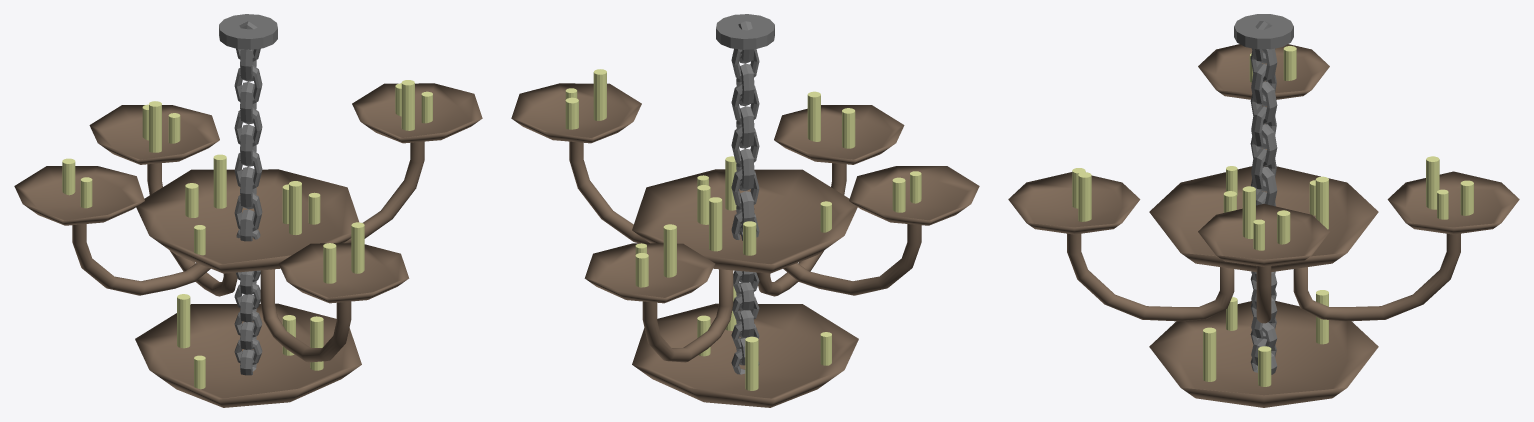
The model's file is Candelabro.fbx.
3 views of the same model, side by side, from view 1: azimuth 30°, elevation 25°; view 2: azimuth 150°, elevation 25°; view 3: azimuth 270°, elevation 25° (orthographic).
Visible parts, largest first — view 1: Cylinder.018; view 2: Cylinder.018; view 3: Cylinder.018.
Part boxes in pixels (<box>): Cylinder.018: <box>14,14,482,407</box>; Cylinder.018: <box>511,14,979,407</box>; Cylinder.018: <box>1008,14,1519,407</box>.
Size of the model in its own units: 1.41 by 1.08 by 1.38.
